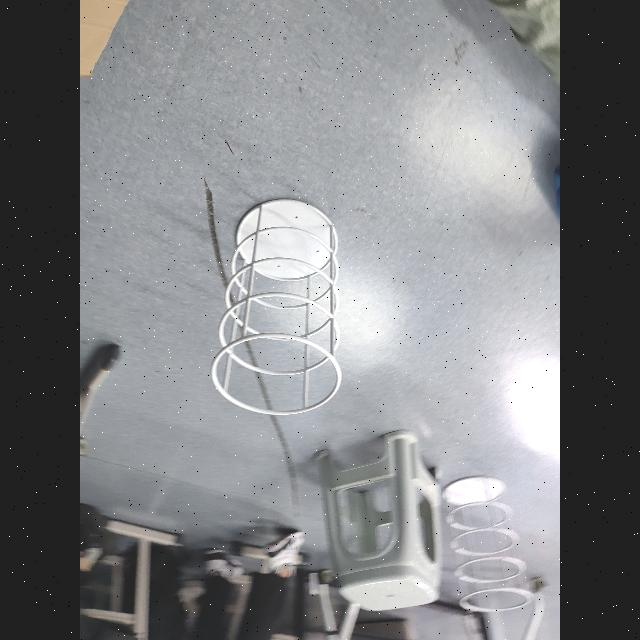S: (208, 196, 344, 418)
